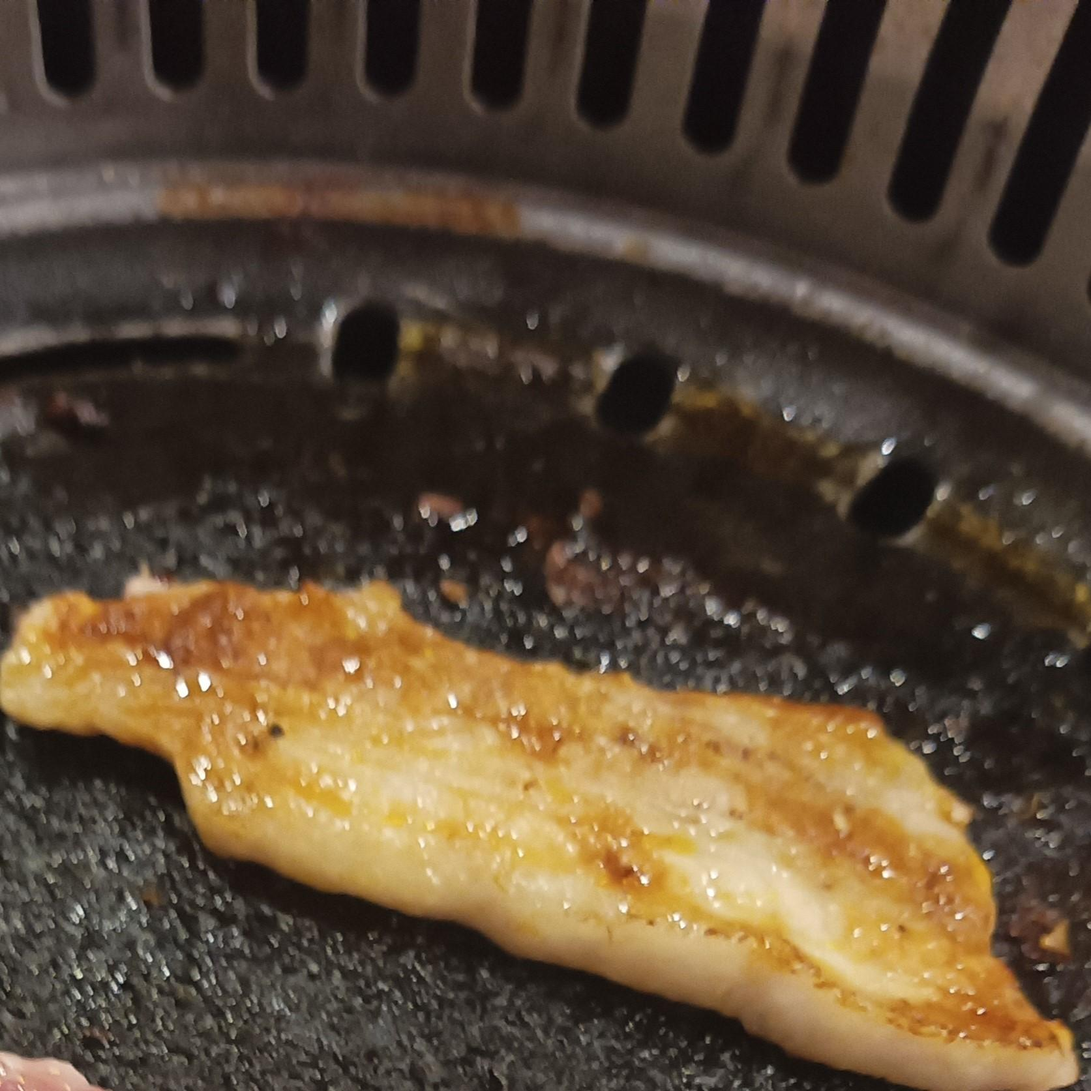Well-Cooked: (0, 583, 1079, 1090)
